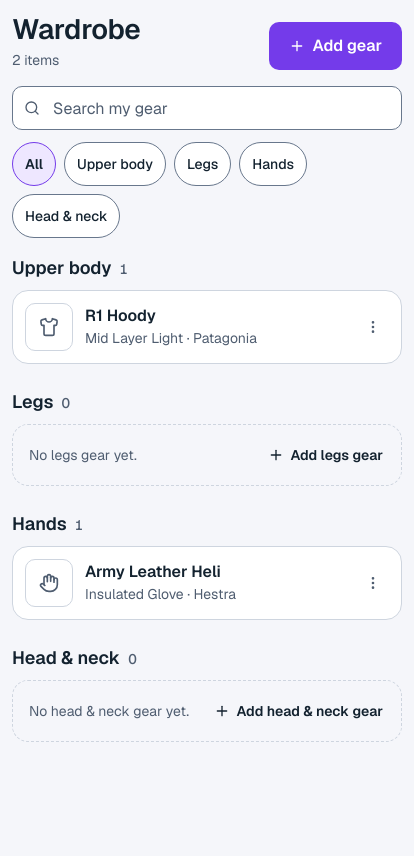
Test: Wardrobe page › keeps an item included when excluding it fails, then retries
What coordinates should you click on to do the following:
click the button named "Actions for R1 Hoody"
I would click on:
 (373, 327)
Its box is x1=351 y1=305 x2=395 y2=349.
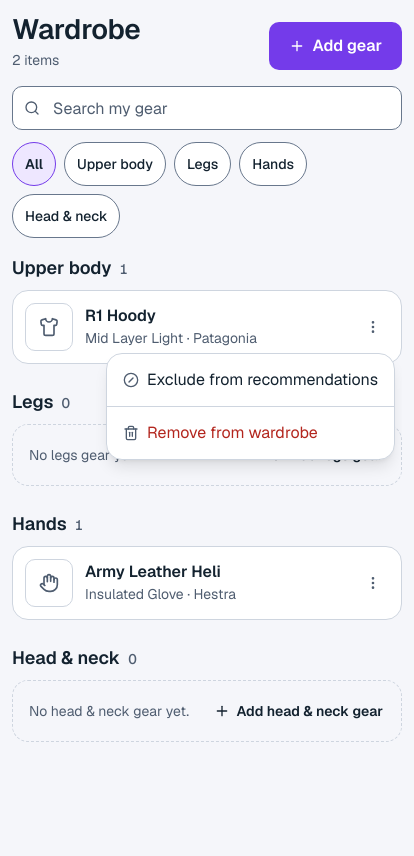
What coordinates should you click on to do the following:
click the menu item "Exclude from recommendations"
I would click on:
 (250, 380)
Its box is x1=123 y1=369 x2=378 y2=390.
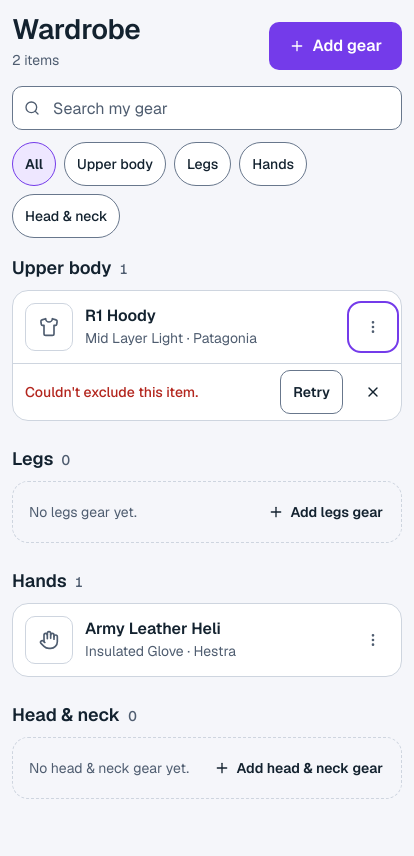
Expected: the text "Excluded from recommendations" is not shown
Result: the message shows "Couldn't exclude this item." at x1=25 y1=383 x2=198 y2=401
What coordinates should you click on to do the following:
click the button "Retry"
I would click on:
 (312, 392)
Its box is x1=280 y1=370 x2=343 y2=414.
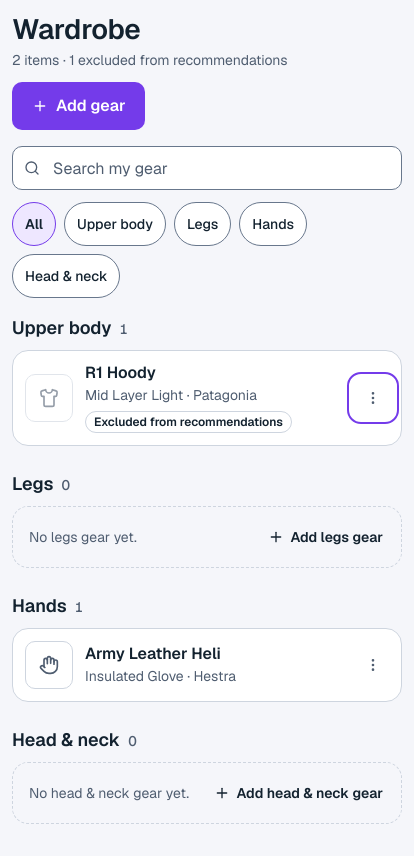
Result: the text "Excluded from recommendations" is shown at x1=85 y1=411 x2=292 y2=433
Result: the text "2 items · 1 excluded from recommendations" is shown at x1=12 y1=50 x2=288 y2=70
Result: the message "Couldn't exclude this item. Retry" is gone
